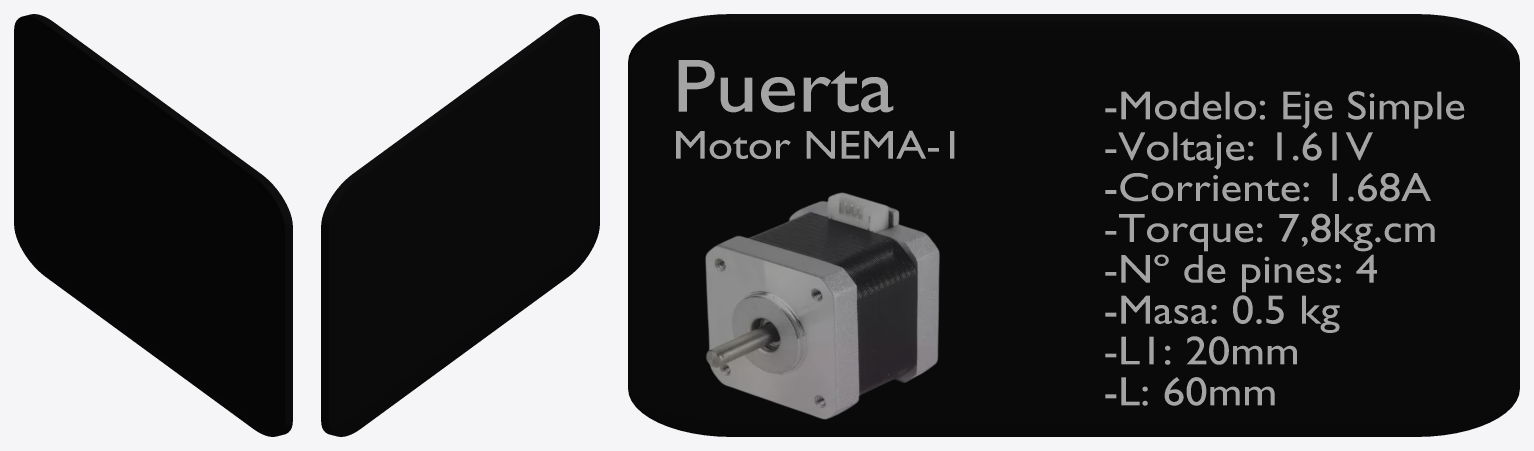
The model's file is HouseDoorAdvertisement.glb.
The picture shows the model from 3 angles, left to right: view 1: azimuth 30°, elevation 25°; view 2: azimuth 150°, elevation 25°; view 3: azimuth 270°, elevation 25°; orthographic projection. The views are drawn at different scales.
Visible parts, largest first — view 1: Cube; view 2: Cube; view 3: Cube, MotorNEMA17, Text.002, Text, Text.001.
Boxes of the visible parts, box(x1,y1,x2,y2) form: Cube: box(14, 14, 292, 436); Cube: box(321, 14, 599, 436); Cube: box(628, 14, 1519, 436); MotorNEMA17: box(705, 192, 939, 419); Text.002: box(1105, 91, 1464, 405); Text: box(678, 60, 893, 112); Text.001: box(676, 130, 954, 158).
Bounding box in the file's own units: 0.32 × 2.93 × 5.7.
Materials: 5 (1 with a texture image).
